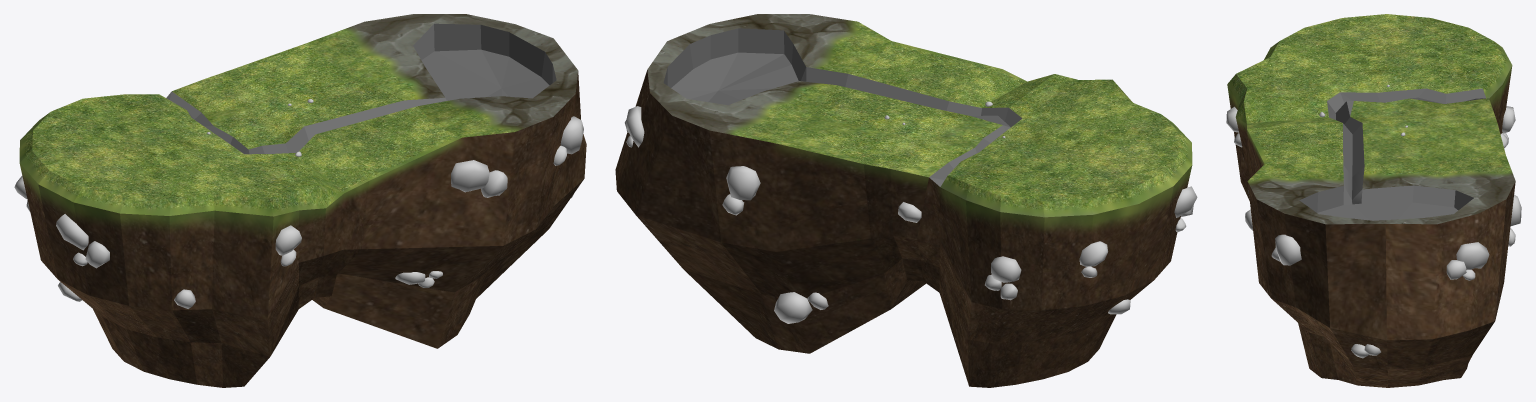
Rendered from Isla.fbx.
3 renders of one model, left to right at view 1: azimuth 30°, elevation 25°; view 2: azimuth 150°, elevation 25°; view 3: azimuth 270°, elevation 25°, orthographic. The views are drawn at different scales.
Parts seen in each view (by area): view 1: FloatingCaveIsland, Roca_21, Roca_13, Roca_22, Roca_18, Roca_5, Roca_14; view 2: FloatingCaveIsland, Roca_26, Roca_30, Roca_27, Roca_2, Roca_25; view 3: FloatingCaveIsland, Roca_25, Roca_22, Roca_24, Roca_27, Roca_26.
Part boxes in pixels (box(x1,y1,x2,y2)): FloatingCaveIsland: box(19, 14, 586, 387); Roca_21: box(451, 160, 489, 192); Roca_13: box(56, 214, 88, 250); Roca_22: box(560, 116, 583, 154); Roca_18: box(275, 225, 301, 255); Roca_5: box(481, 170, 507, 197); Roca_14: box(85, 241, 109, 268); FloatingCaveIsland: box(615, 14, 1192, 387); Roca_26: box(726, 166, 760, 200); Roca_30: box(774, 292, 812, 323); Roca_27: box(991, 256, 1021, 282); Roca_2: box(1079, 241, 1108, 266); Roca_25: box(626, 106, 644, 147); FloatingCaveIsland: box(1227, 14, 1515, 387); Roca_25: box(1456, 242, 1489, 269); Roca_22: box(1275, 234, 1301, 265); Roca_24: box(1446, 260, 1466, 279); Roca_27: box(1502, 106, 1515, 133); Roca_26: box(1510, 194, 1521, 225).
Size of the model in its own units: 56.99 by 29.88 by 23.86.
